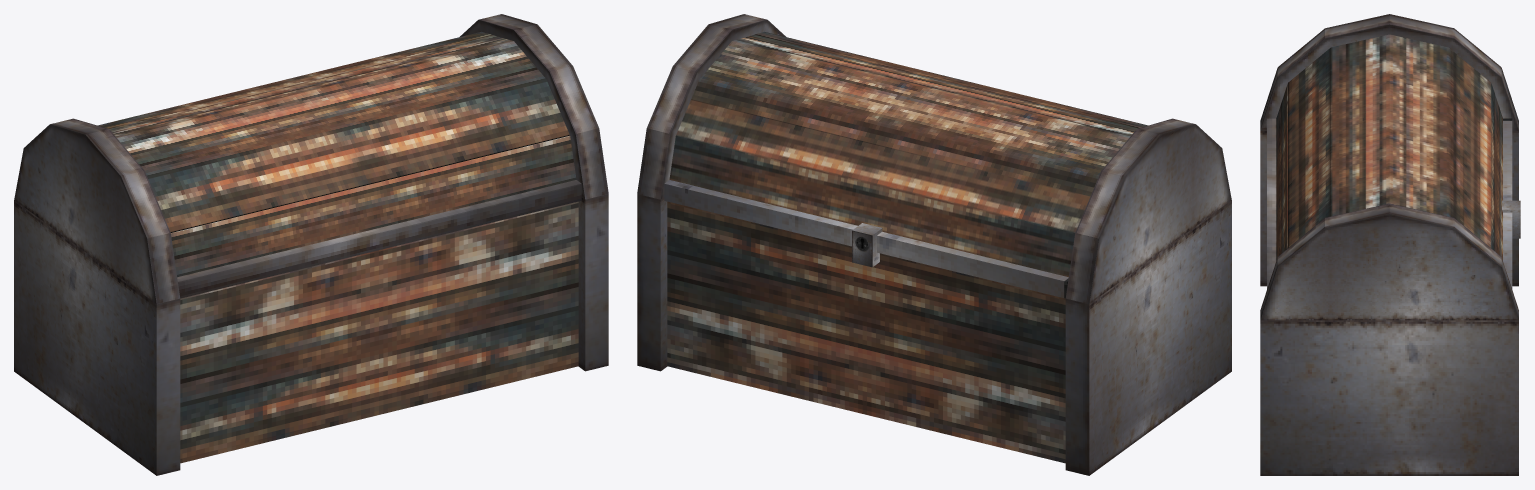
The model's file is chest.fbx.
3 renders of one model, left to right at view 1: azimuth 30°, elevation 25°; view 2: azimuth 150°, elevation 25°; view 3: azimuth 270°, elevation 25°, orthographic. The views are drawn at different scales.
Parts seen in each view (by area): view 1: Lid, Base, Left_Base_Edge, Left_Lid_Edge, Lid_Rim, Right_Lid_Edge, Right_Base_Edge; view 2: Lid, Base, Left_Base_Edge, Left_Lid_Edge, Lid_Rim, Right_Lid_Edge, Right_Base_Edge, Keyhole; view 3: Right_Base_Edge, Lid, Right_Lid_Edge, Left_Lid_Edge, Lid_Rim, Left_Base_Edge, Keyhole.
Part boxes in pixels (box(x1,y1,x2,y2)): Lid: box(98, 32, 576, 276); Base: box(180, 201, 578, 463); Left_Base_Edge: box(14, 200, 180, 475); Left_Lid_Edge: box(14, 118, 180, 303); Lid_Rim: box(177, 180, 581, 298); Right_Lid_Edge: box(460, 14, 608, 199); Right_Base_Edge: box(578, 194, 608, 371); Lid: box(669, 32, 1147, 276); Base: box(667, 201, 1065, 463); Left_Base_Edge: box(1065, 200, 1231, 475); Left_Lid_Edge: box(1065, 118, 1231, 303); Lid_Rim: box(664, 180, 1068, 298); Right_Lid_Edge: box(637, 14, 785, 199); Right_Base_Edge: box(637, 194, 667, 371); Keyhole: box(852, 223, 882, 267); Right_Base_Edge: box(1260, 320, 1518, 475); Lid: box(1276, 34, 1502, 260); Right_Lid_Edge: box(1260, 203, 1518, 320); Left_Lid_Edge: box(1260, 14, 1518, 130); Lid_Rim: box(1267, 118, 1512, 288); Left_Base_Edge: box(1260, 131, 1518, 286); Keyhole: box(1502, 200, 1520, 238).
Bounding box in the file's own units: 2.22 × 1.35 × 1.22.
